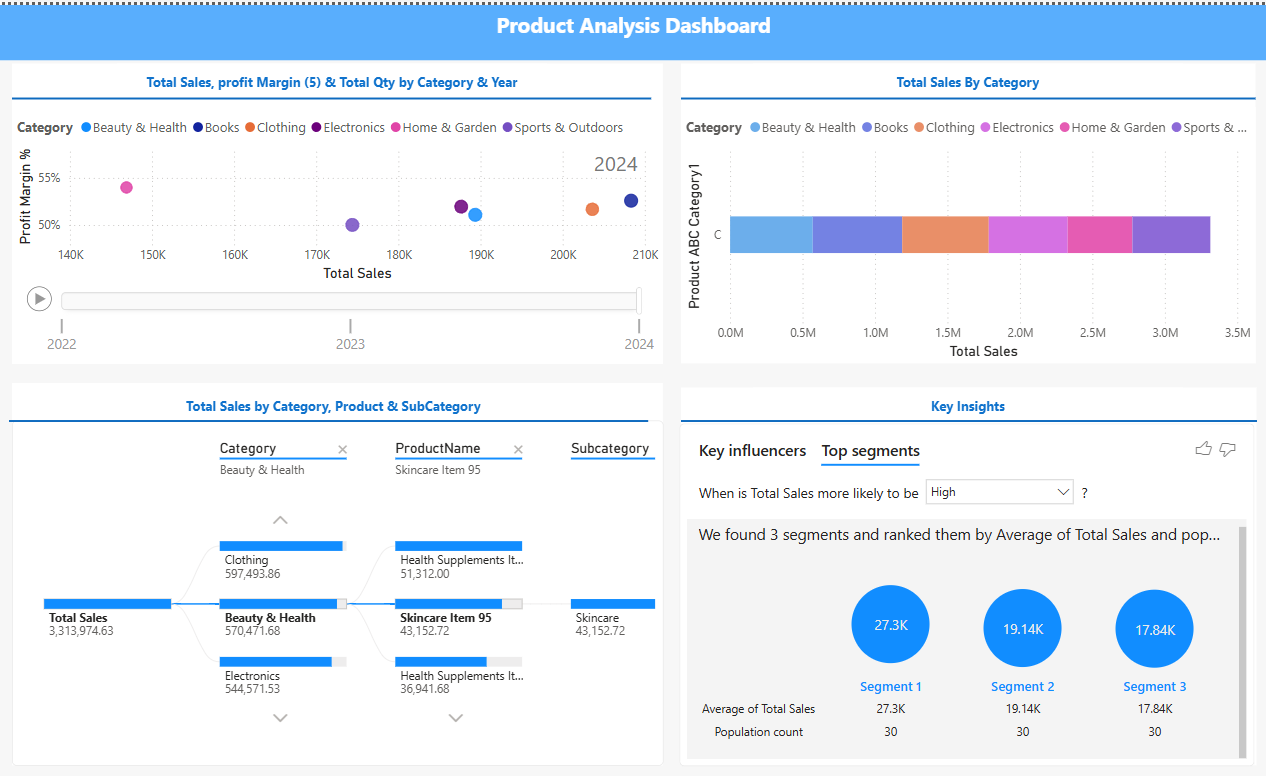

What the dashboard file says about the page in this screenshot:
{"tool":"powerbi","page":{"name":"Product Analysis","canvas":[1300,800],"ordinal":3},"visuals":[{"type":"shape","box":[697.5,391.9,590.1,387.3],"z":0},{"type":"shape","box":[12.3,387.5,667.4,392.2],"z":1000},{"type":"shape","box":[698.2,60,589,307.6],"z":2000},{"type":"shape","box":[12.3,60,667.4,307.6],"z":3000},{"type":"scatterChart","fields":{"X":["Sales.Total Sales"],"Y":["Sales.Profit Margin %"],"Series":["Products.Category"],"Size":["Sales.Total Quantity"],"Play":["Date.Year"]},"box":[12.3,104.6,667.4,263],"z":4000},{"type":"barChart","fields":{"Y":["Sales.Total Sales"],"Series":["Products.Category"],"Category":["Products.Product ABC Category1"]},"box":[698.2,104.6,589,263],"z":5000},{"type":"keyDriversVisual","fields":{"Target":["Sales.Total Sales"],"ExplainBy":["Products.Category","Customers.Region","Customers.Customer Age Group","Products.Price Category"]},"box":[697.3,428.5,589,351.3],"z":6000},{"type":"decompositionTreeVisual","fields":{"Analyze":["Sales.Total Sales"],"ExplainBy":["Products.Category","Products.ProductName","Products.Subcategory"]},"box":[12.2,425.4,667.9,353.8],"z":7000},{"type":"textbox","box":[0,0,1299.5,56.9],"z":8000},{"type":"shape","box":[120.1,60.1,440.6,36.3],"z":9000},{"type":"shape","box":[12.6,79.7,655.7,31.8],"z":10000},{"type":"shape","box":[772,60.1,440.6,36.3],"z":11000},{"type":"shape","box":[697.8,79.7,589,31.8],"z":12000},{"type":"shape","box":[121.6,391.7,440.6,36.3],"z":13000},{"type":"shape","box":[9.5,410.8,655.7,31.8],"z":14000},{"type":"shape","box":[772,391.7,440.6,36.3],"z":15000},{"type":"shape","box":[697.8,411.4,590.5,31.8],"z":16000}]}

Visuals, with their boxes in screenshot pixels (x1, y1, x2, y2), scaled from the page's 1300x800 canvas onto the 1266x776 screenshot:
shape: 679/380/1254/756
shape: 12/376/662/756
shape: 680/58/1254/357
shape: 12/58/662/357
scatterChart - Sales.Total Sales x Sales.Profit Margin %: 12/101/662/357
barChart - Sales.Total Sales x Products.Category: 680/101/1254/357
keyDriversVisual - Sales.Total Sales x Products.Category: 679/416/1253/756
decompositionTreeVisual - Sales.Total Sales x Products.Category: 12/413/662/756
textbox: 0/0/1265/55
shape: 117/58/546/94
shape: 12/77/651/108
shape: 752/58/1181/94
shape: 680/77/1253/108
shape: 118/380/547/415
shape: 9/398/648/429
shape: 752/380/1181/415
shape: 680/399/1255/430
